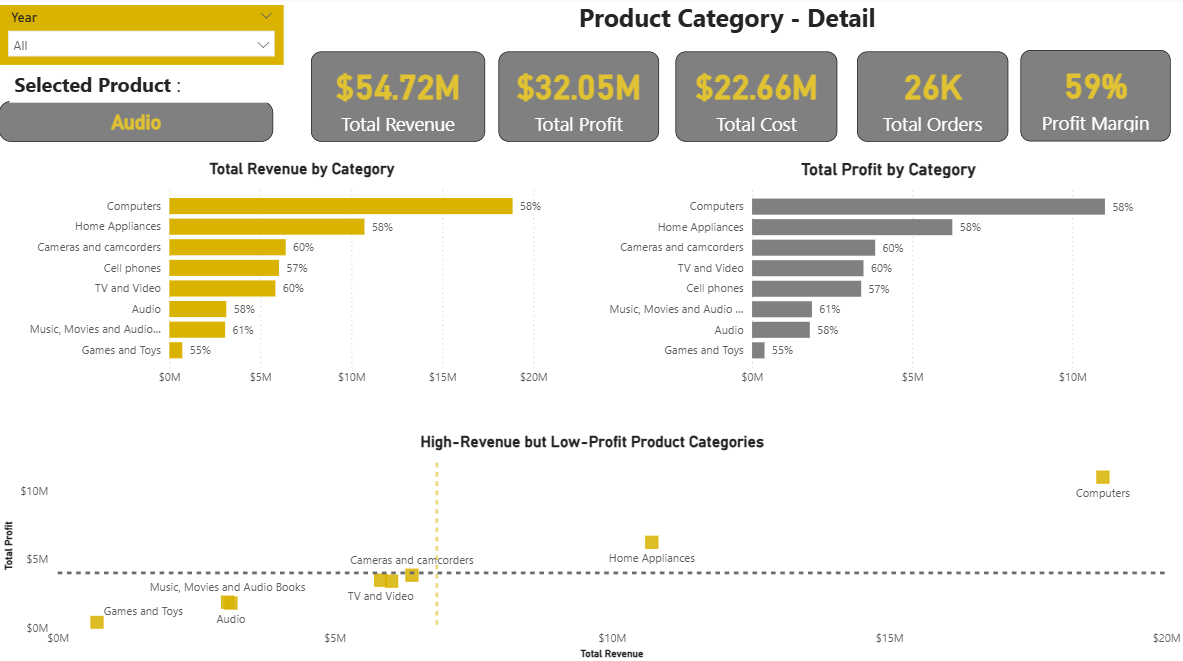

The dashboard page shown, as its layout file describes it:
{"tool":"powerbi","page":{"name":"Product Category Detail","canvas":[1280,720],"ordinal":2},"visuals":[{"type":"clusteredBarChart","fields":{"Category":["Products.Category"],"Y":["Measures (2).Total Revenue"]},"box":[14.6,176.5,625,252.6],"z":0},{"type":"clusteredBarChart","fields":{"Category":["Products.Category"],"Y":["Measures (2).Total Profit"]},"box":[639.6,176.5,641.2,252.6],"z":1000},{"type":"card","fields":{"Values":["Measures (2).Total Revenue"]},"box":[336.8,59.9,187.8,97.2],"z":2000},{"type":"card","fields":{"Values":["Measures (2).Total Profit"]},"box":[539.2,59.9,173.3,97.2],"z":3000},{"type":"card","fields":{"Values":["Measures (2).Total Orders"]},"box":[926.2,59.9,163.5,97.2],"z":4000},{"type":"card","fields":{"Values":["Measures (2).Profit Margin %"]},"box":[1102.7,58.3,161.9,98.8],"z":5000},{"type":"card","fields":{"Values":["Min(Products.Category)"]},"box":[0,113.3,296.3,43.7],"z":6000},{"type":"textbox","box":[11.3,74.5,285,40.5],"z":7000},{"type":"card","fields":{"Values":["Measures (2).Total Cost"]},"box":[730.3,59.9,174.9,97.2],"z":8000},{"type":"textbox","box":[307.7,0,957,58.3],"z":9000},{"type":"slicer","fields":{"Values":["Sales.Order Date.Variation.Date Hierarchy.Year"]},"box":[0,9.7,307.7,64.8],"z":10000},{"type":"scatterChart","title":"High-Revenue but Low-Profit Product Categories","fields":{"X":["Measures (2).Total Revenue"],"Y":["Measures (2).Total Profit"],"Category":["Products.Category"]},"box":[0,471.2,1280.8,249.4],"z":11000}]}

Visuals, with their boxes in screenshot pixels (x1, y1, x2, y2), scaled from the page's 1280x720 canvas onto the 1183x661 screenshot:
clusteredBarChart - Products.Category x Measures (2).Total Revenue: rect(13, 162, 591, 394)
clusteredBarChart - Products.Category x Measures (2).Total Profit: rect(591, 162, 1182, 394)
card - Measures (2).Total Revenue: rect(311, 55, 485, 144)
card - Measures (2).Total Profit: rect(498, 55, 659, 144)
card - Measures (2).Total Orders: rect(856, 55, 1007, 144)
card - Measures (2).Profit Margin %: rect(1019, 54, 1169, 144)
card - Min(Products.Category): rect(0, 104, 274, 144)
textbox: rect(10, 68, 274, 106)
card - Measures (2).Total Cost: rect(675, 55, 837, 144)
textbox: rect(284, 0, 1169, 54)
slicer - Sales.Order Date.Variation.Date Hierarchy.Year: rect(0, 9, 284, 68)
"High-Revenue but Low-Profit Product Categories" scatterChart: rect(0, 433, 1182, 660)
